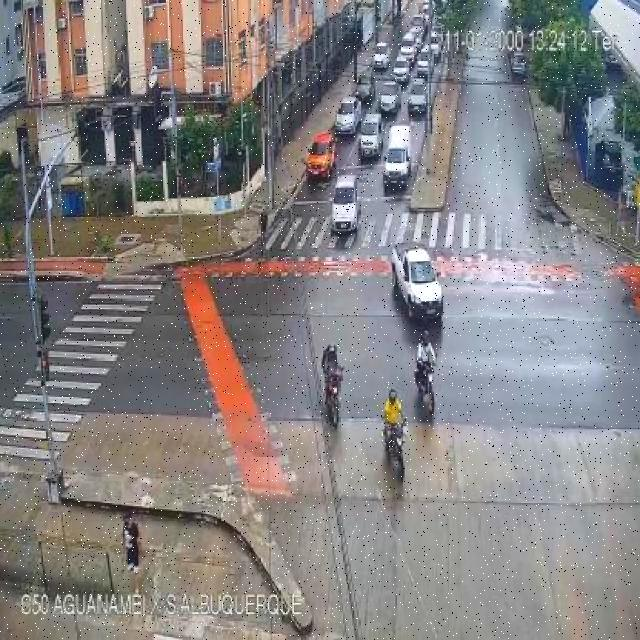Car: (328, 172, 363, 236), (357, 114, 384, 158), (333, 98, 362, 137), (406, 77, 429, 115), (377, 80, 401, 114), (354, 74, 378, 105), (415, 48, 436, 77), (391, 56, 412, 84), (399, 33, 417, 63), (372, 44, 390, 70), (510, 53, 528, 78), (408, 24, 424, 44), (412, 13, 427, 30), (418, 43, 431, 61), (421, 0, 430, 15)
Cycle: (382, 413, 410, 481), (324, 362, 346, 429), (415, 358, 438, 416)
Truck: (390, 242, 442, 318)
Van: (383, 124, 415, 188), (306, 131, 337, 181)
